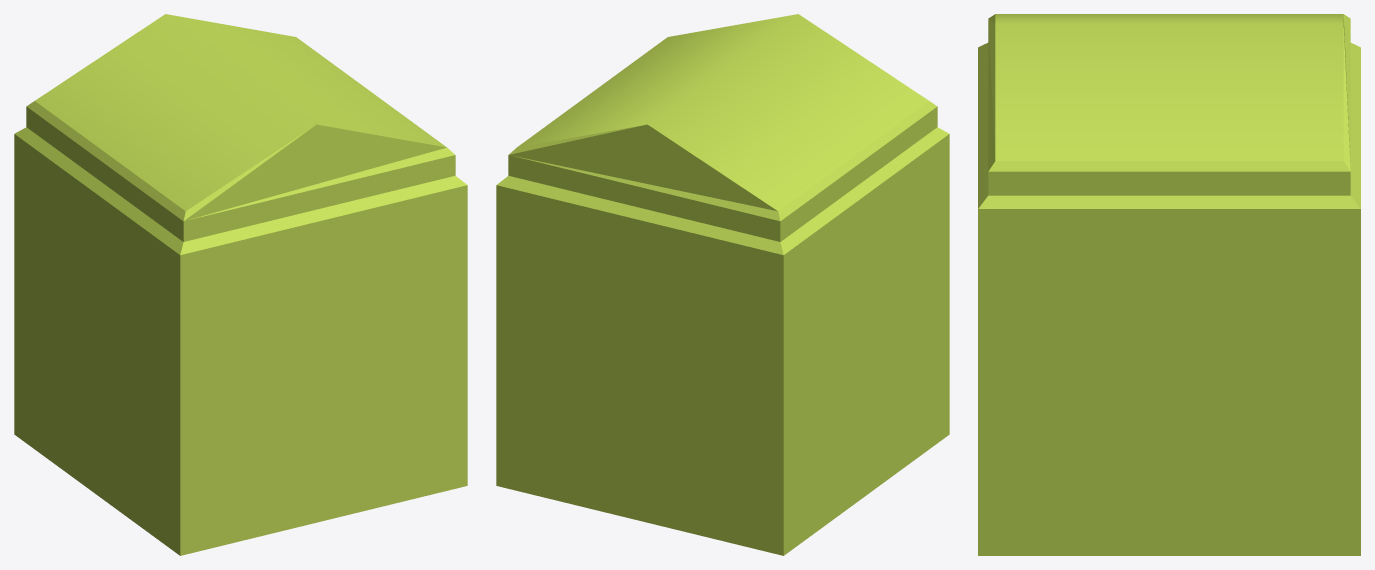
The model's file is Animated_Box.DAE.
3 renders of one model, left to right at view 1: azimuth 30°, elevation 25°; view 2: azimuth 150°, elevation 25°; view 3: azimuth 270°, elevation 25°, orthographic. The views are drawn at different scales.
Parts seen in each view (by area): view 1: Box01; view 2: Box01; view 3: Box01.
Part boxes in pixels (x1=…): Box01: x1=14, y1=14, x2=467, y2=555; Box01: x1=496, y1=14, x2=949, y2=555; Box01: x1=978, y1=14, x2=1360, y2=555.
Size of the model in its own units: 100 by 100 by 130.
